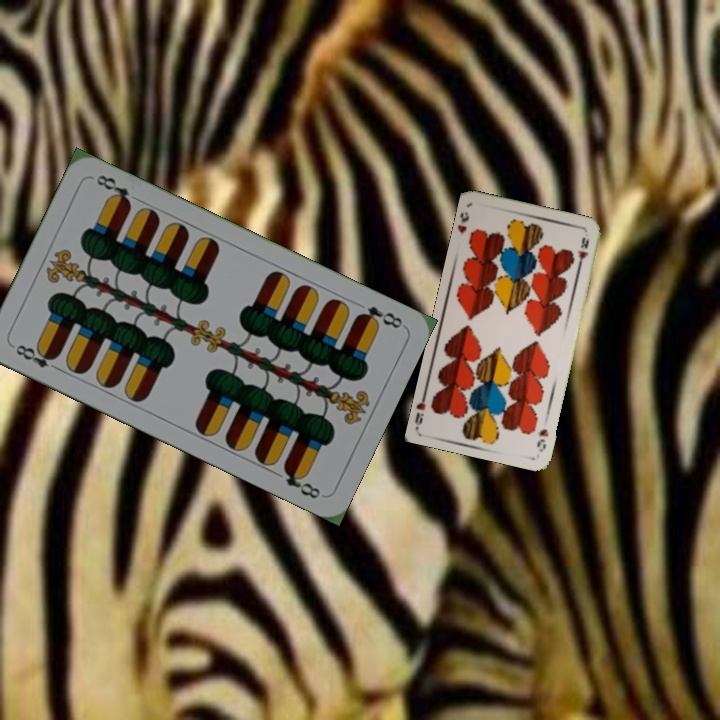E8: (11, 340, 64, 374), (353, 302, 405, 331)
H9: (533, 425, 551, 454), (455, 208, 472, 236)
